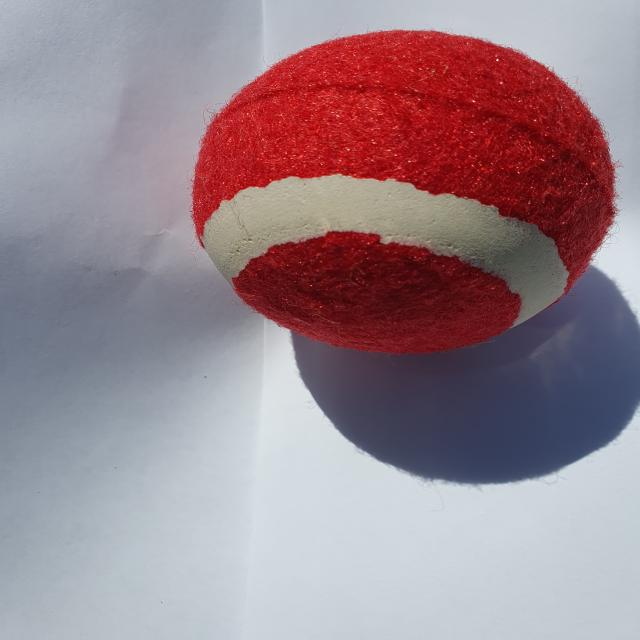red: (193, 28, 617, 356)
